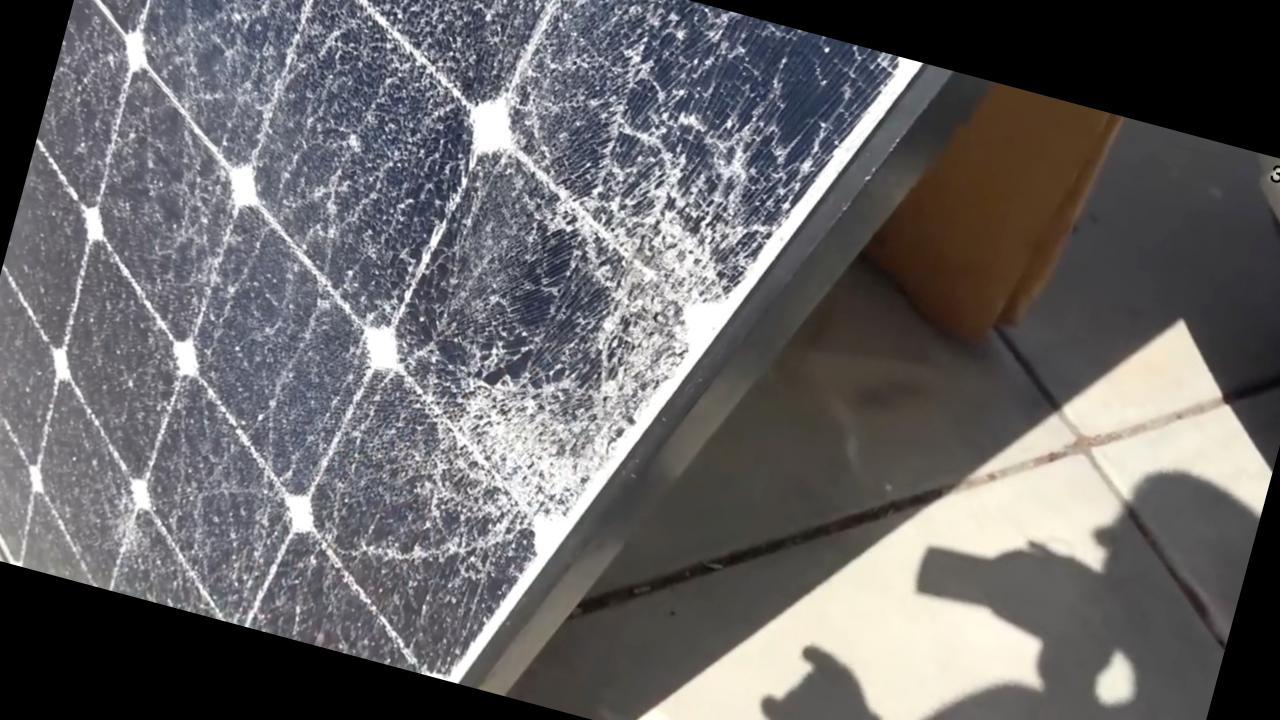Crack: (64, 0, 315, 338), (208, 129, 422, 499), (358, 272, 606, 556), (570, 13, 790, 304), (314, 0, 558, 136)
